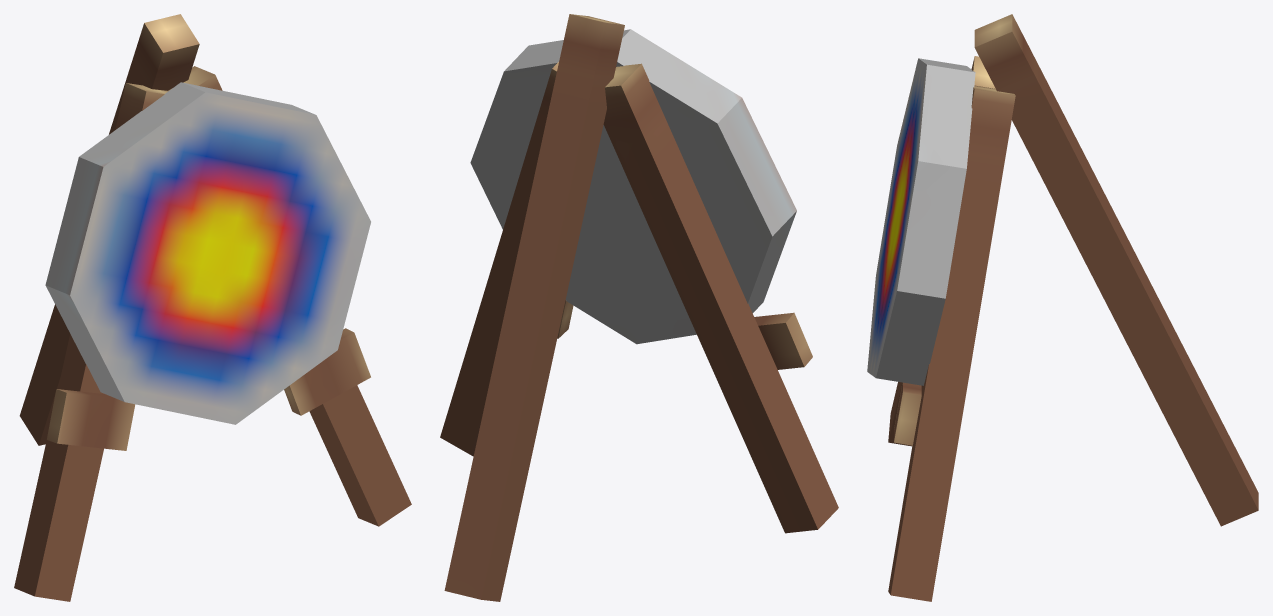
Rendered from kit-archery-target.glb.
The picture shows the model from 3 angles, left to right: view 1: azimuth 30°, elevation 25°; view 2: azimuth 150°, elevation 25°; view 3: azimuth 270°, elevation 25°; orthographic projection.
Parts seen in each view (by area): view 1: Cylinder.049; view 2: Cylinder.049; view 3: Cylinder.049.
Part boxes in pixels (left/top/right/bottom): Cylinder.049: left=14, top=14, right=411, bottom=601; Cylinder.049: left=440, top=14, right=838, bottom=601; Cylinder.049: left=867, top=14, right=1258, bottom=601.
Size of the model in its own units: 0.8733 by 1.12 by 0.7935.
Materials: 1 (1 with a texture image).
